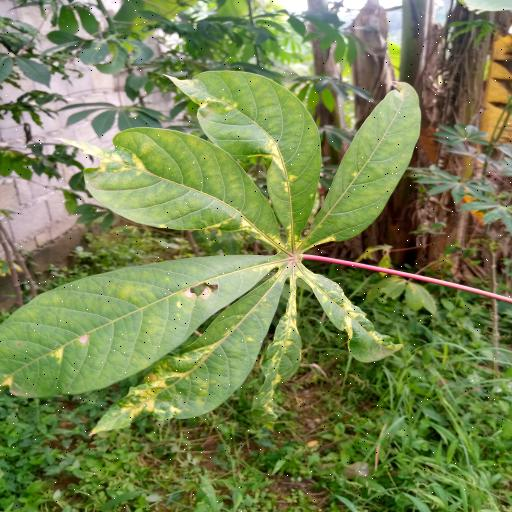Cassava_Mosaic: (0, 69, 423, 439)
